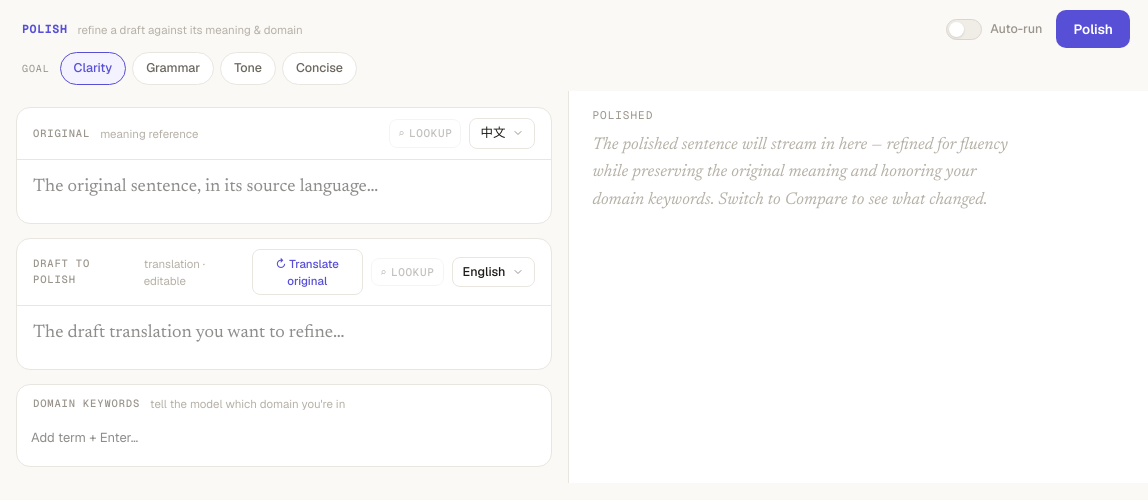
Test: PolishPanel › polishes the draft, then Accept commits the result to the draft and toasts
Type "rough draft text" into the text box named "Draft to polish" at (189, 334), box [17,306,360,362]
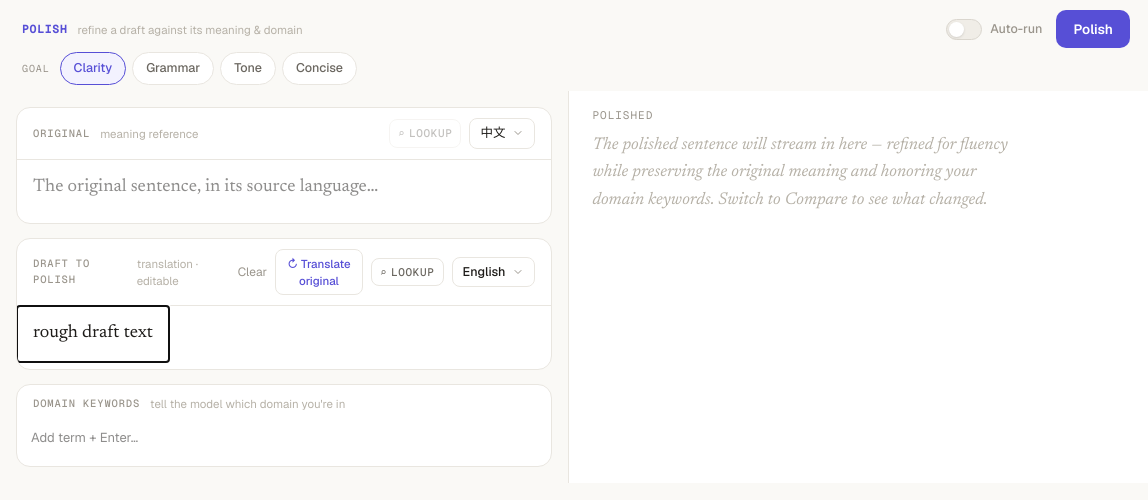
Click the button "Polish" at (1093, 29), box [1056,10,1130,48]
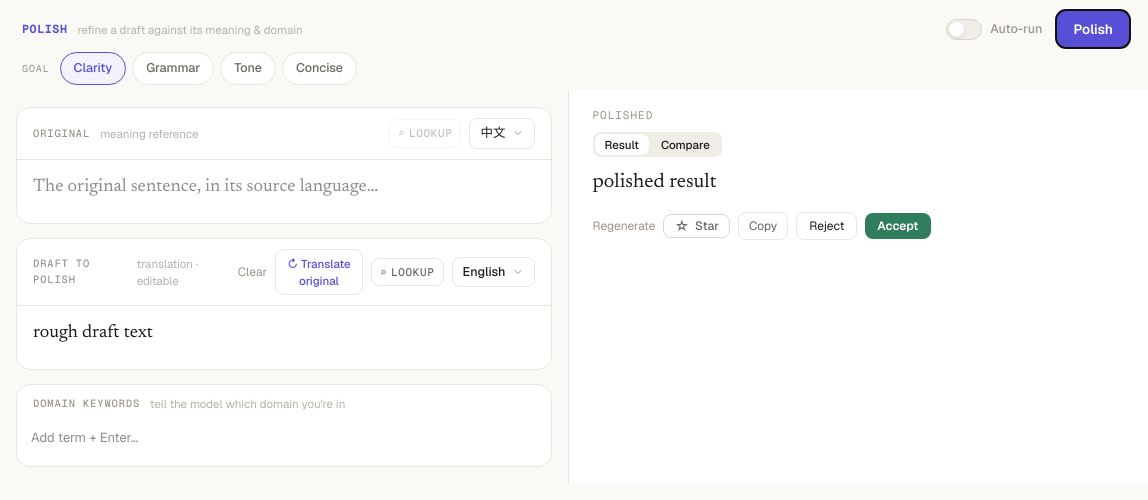
Expected: the button "result" is shown, [669,172,716,192]
// Compare toggle works
Click the button "Compare" at (685, 144), box [651,134,720,155]
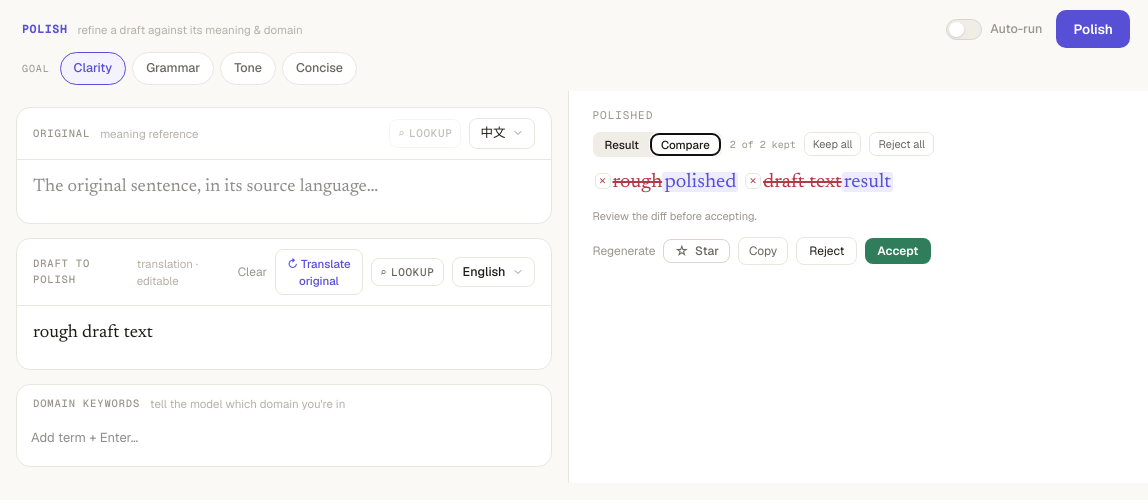
Expected: the button "Compare" is pressed, [651,134,720,155]
// Accept commits the polished result to the draft + confirmation toast
Click the button "Accept" at (898, 251), box [865,238,930,264]
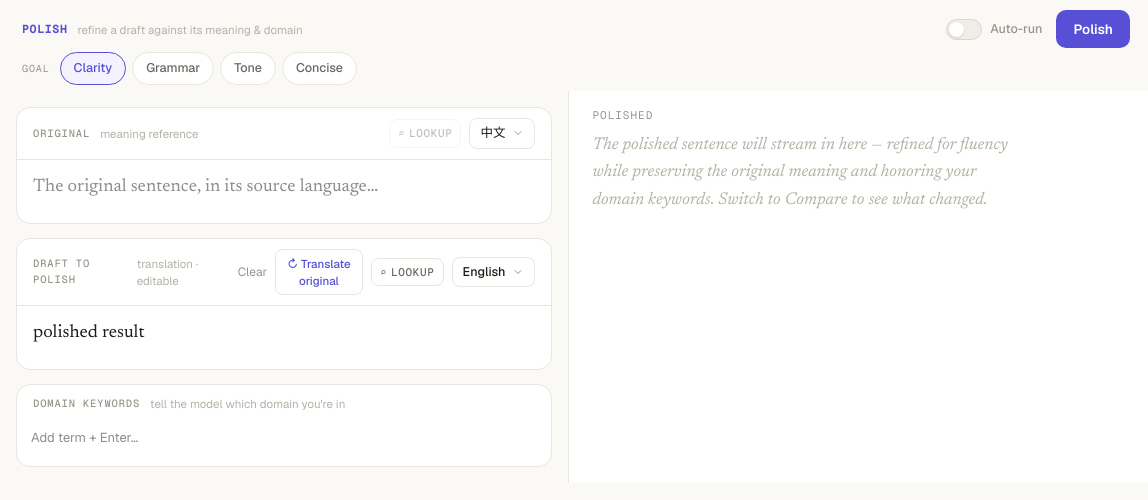
Expected: the text box named "Draft to polish" holds "polished result", [17,306,161,362]
